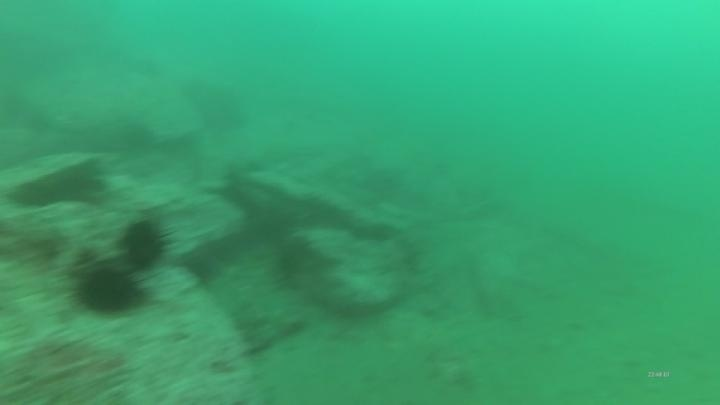echinus: (7, 159, 107, 211), (70, 261, 148, 319), (118, 216, 173, 272)
